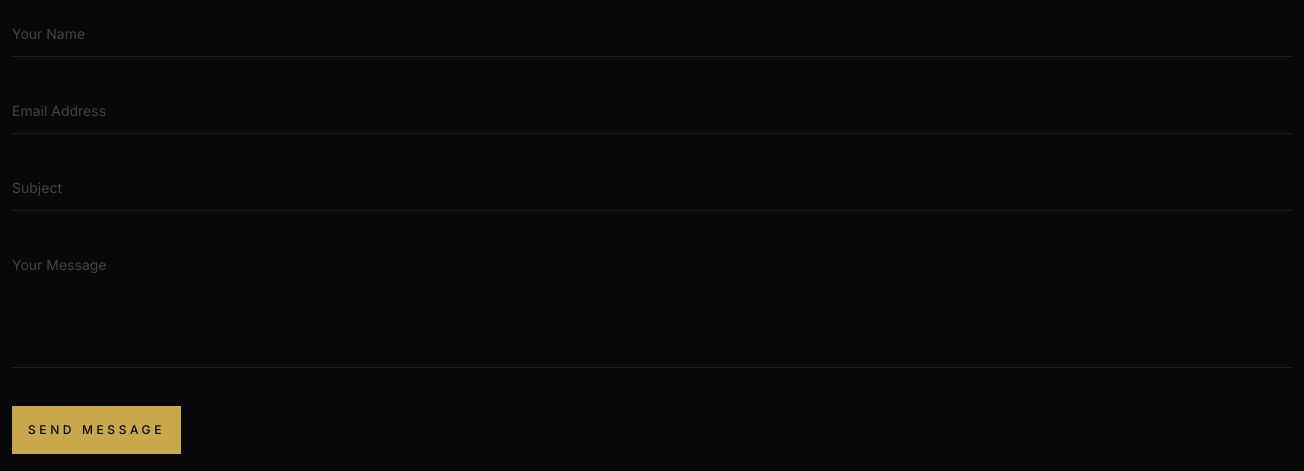
Test: ContactForm › shows loading state while submitting
Type "Jane Smith" into the field with placeholder "Your Name" at [652, 34], box [12, 12, 1292, 57]
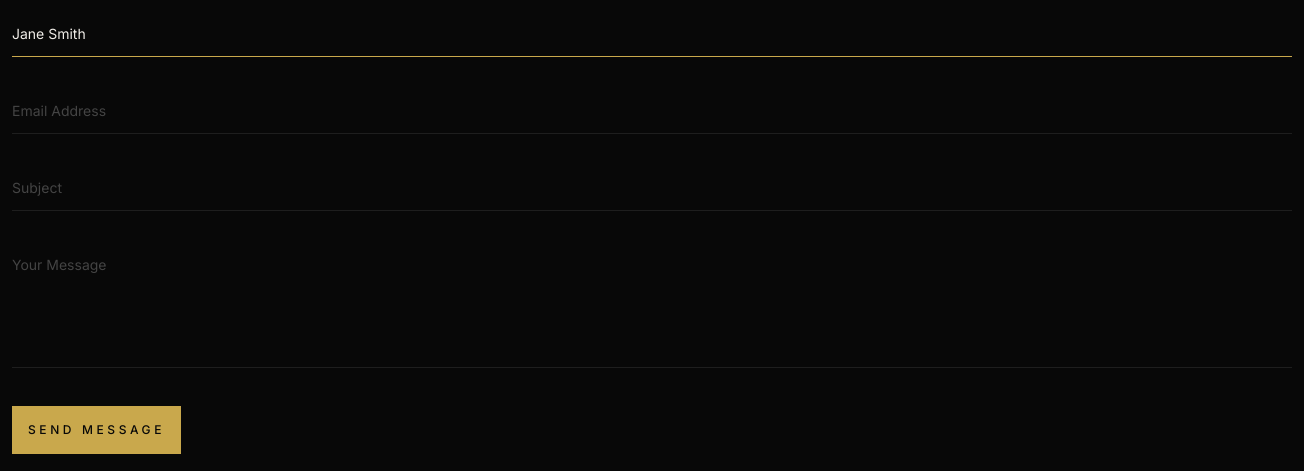
Type "jane@example.com" into the field with placeholder "Email Address" at [652, 112], box [12, 89, 1292, 134]
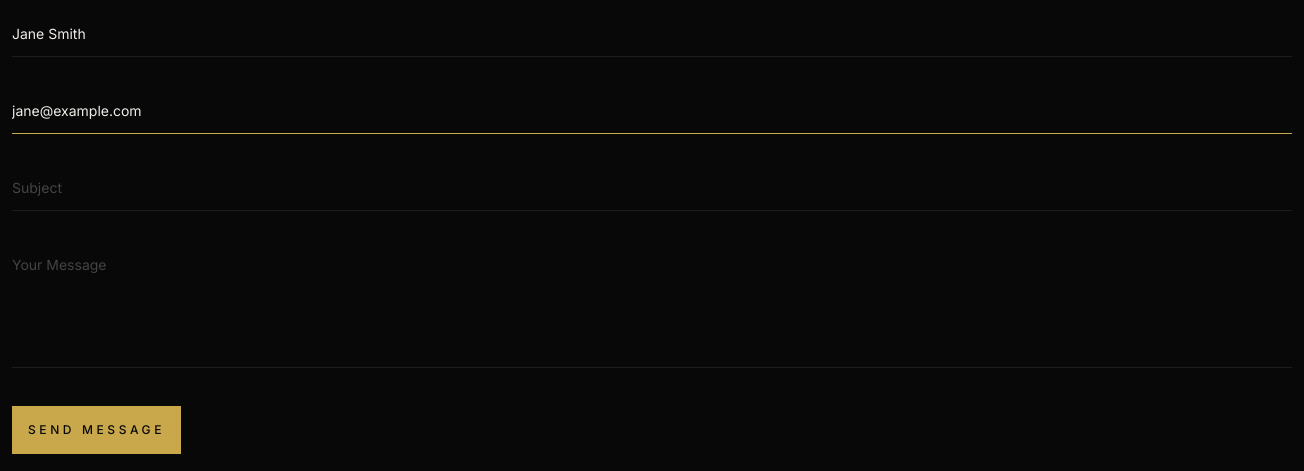
Type "Booking Request" into the field with placeholder "Subject" at [652, 188], box [12, 166, 1292, 211]
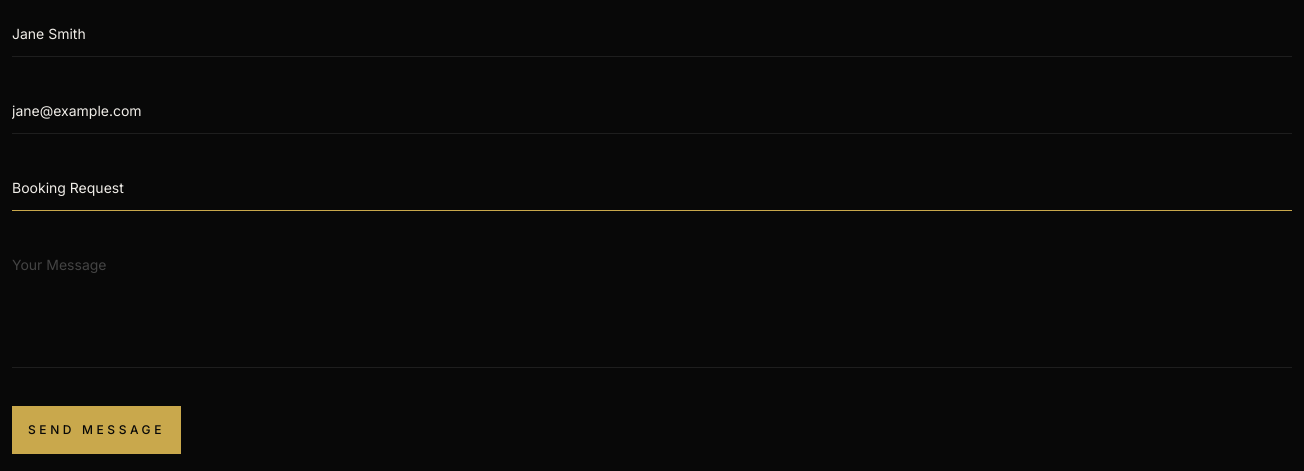
Type "This is a detailed message that meets the minimum character requirement." into the text box with placeholder "Your Message" at [652, 306], box [12, 243, 1292, 368]
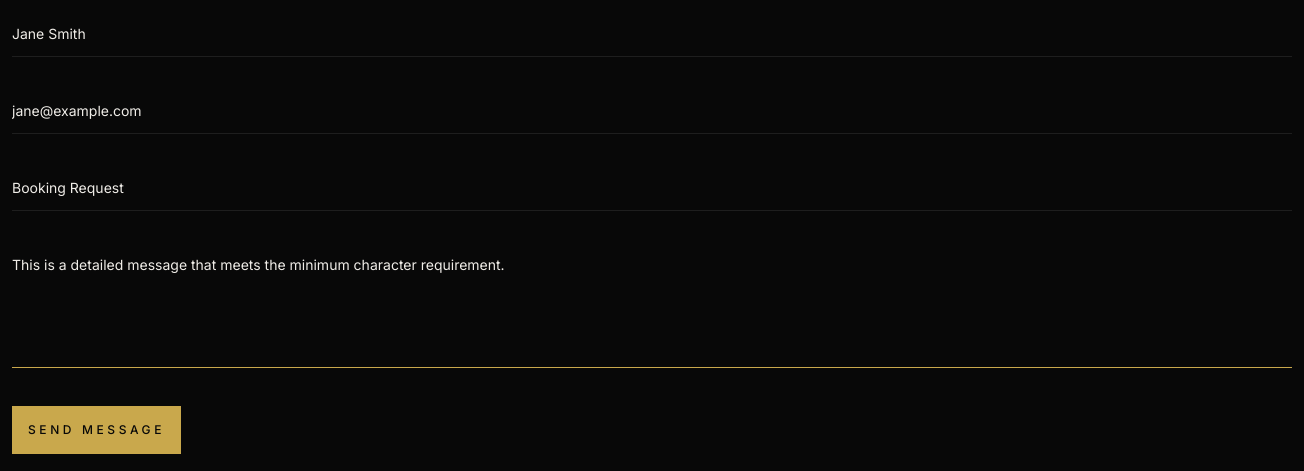
Click the button "Send Message" at [96, 430], box [12, 406, 181, 454]
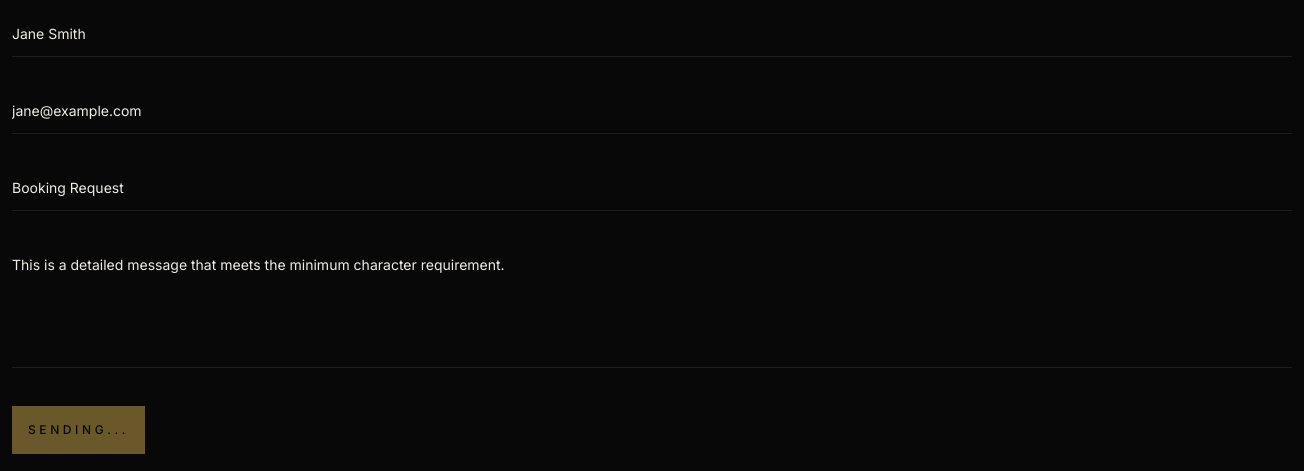
Result: the button "Sending..." is shown at [12, 406, 145, 454]
